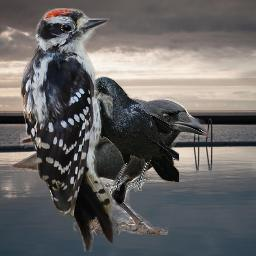Crow: (11, 98, 208, 235), (78, 76, 179, 194)
Woodpecker: (17, 8, 113, 252)
